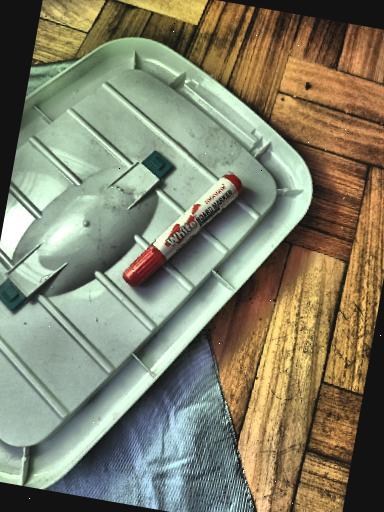marcador rojo: (123, 175, 241, 287)
